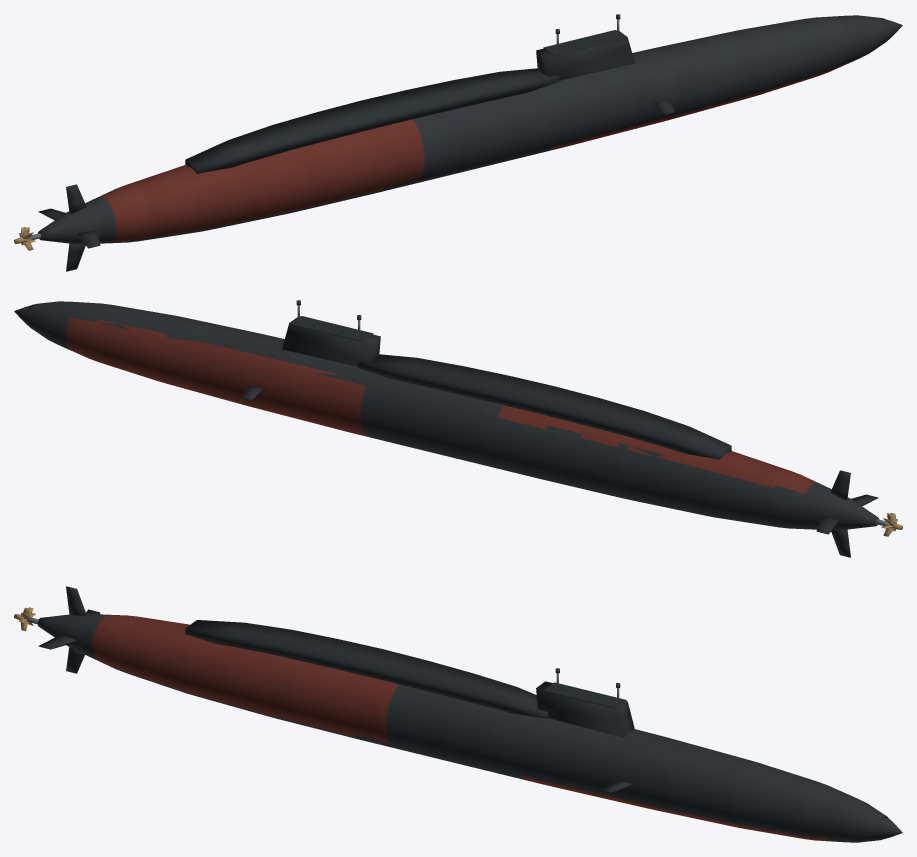
The model's file is US_SSBN_BenjaminFranklin_LOD1.fbx.
The picture shows the model from 3 angles, top to bottom: view 1: azimuth 30°, elevation 25°; view 2: azimuth 150°, elevation 25°; view 3: azimuth 330°, elevation 25°; orthographic projection.
Parts seen in each view (by area): view 1: US_SSBN_BenjaminFranklin_LOD1; view 2: US_SSBN_BenjaminFranklin_LOD1; view 3: US_SSBN_BenjaminFranklin_LOD1.
Part boxes in pixels (x1=…): US_SSBN_BenjaminFranklin_LOD1: x1=14, y1=14, x2=902, y2=271; US_SSBN_BenjaminFranklin_LOD1: x1=14, y1=300, x2=902, y2=557; US_SSBN_BenjaminFranklin_LOD1: x1=14, y1=586, x2=902, y2=842.
Bounding box in the file's own units: 134 × 16.71 × 17.53.
Materials: 6 (1 with a texture image).
